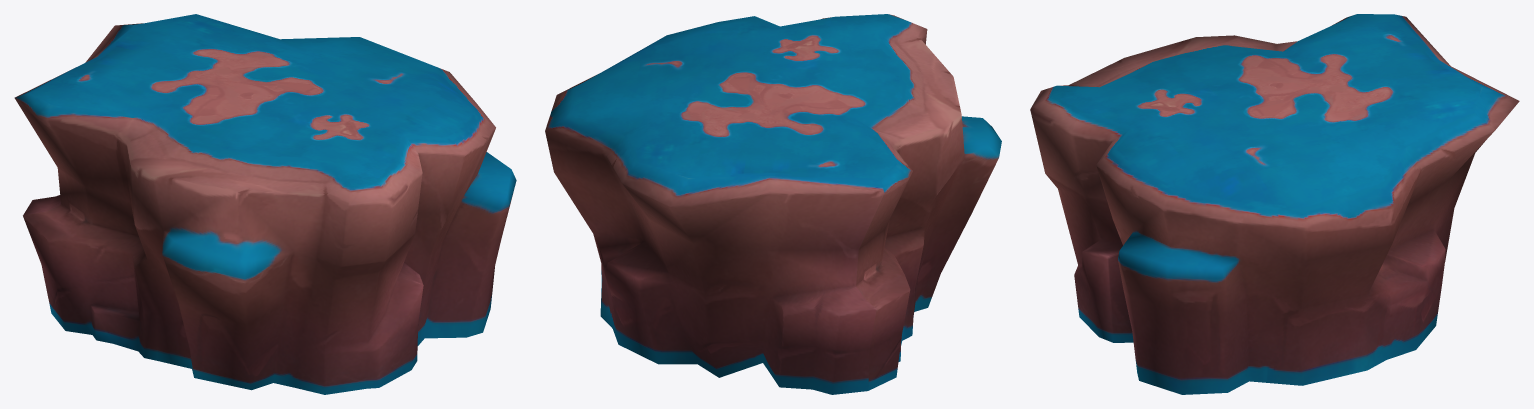
File: nameikexing_shitou02.FBX
The picture shows the model from 3 angles, left to right: view 1: azimuth 30°, elevation 25°; view 2: azimuth 150°, elevation 25°; view 3: azimuth 270°, elevation 25°; orthographic projection. The views are drawn at different scales.
Parts seen in each view (by area): view 1: nameikexing_shitou02; view 2: nameikexing_shitou02; view 3: nameikexing_shitou02.
Boxes of the visible parts, left/top/right/bottom form: nameikexing_shitou02: left=14, top=14, right=516, bottom=394; nameikexing_shitou02: left=545, top=14, right=1001, bottom=394; nameikexing_shitou02: left=1030, top=14, right=1519, bottom=394.
Size of the model in its own units: 2604 by 1457 by 2961.
